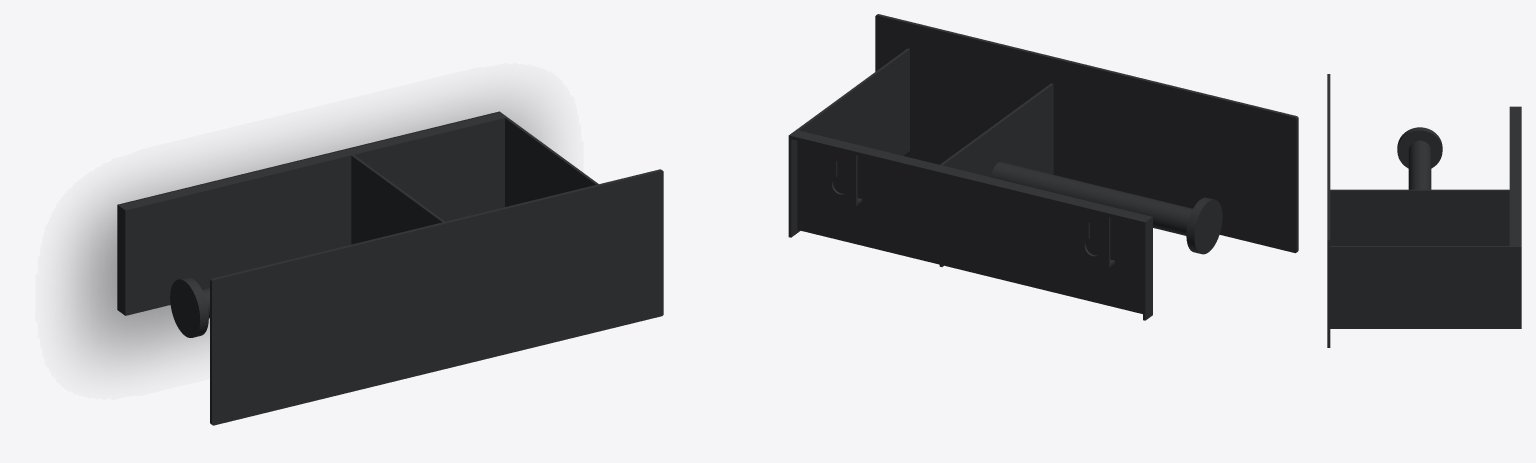
Rendered from skyline-duetto.0825b24321.ar.glb.
3 renders of one model, left to right at view 1: azimuth 30°, elevation 25°; view 2: azimuth 150°, elevation 25°; view 3: azimuth 270°, elevation 25°, orthographic. The views are drawn at different scales.
Visible parts, largest first — view 1: NAUO1, object 2; view 2: NAUO1; view 3: NAUO1.
Boxes of the visible parts, left/top/right/bottom form: NAUO1: left=117, top=111, right=663, bottom=425; object 2: left=70, top=102, right=546, bottom=360; NAUO1: left=788, top=14, right=1298, bottom=320; NAUO1: left=1327, top=74, right=1521, bottom=347.
Size of the model in its own units: 0.34 by 0.16 by 0.129.
2 materials, 1 textured.
